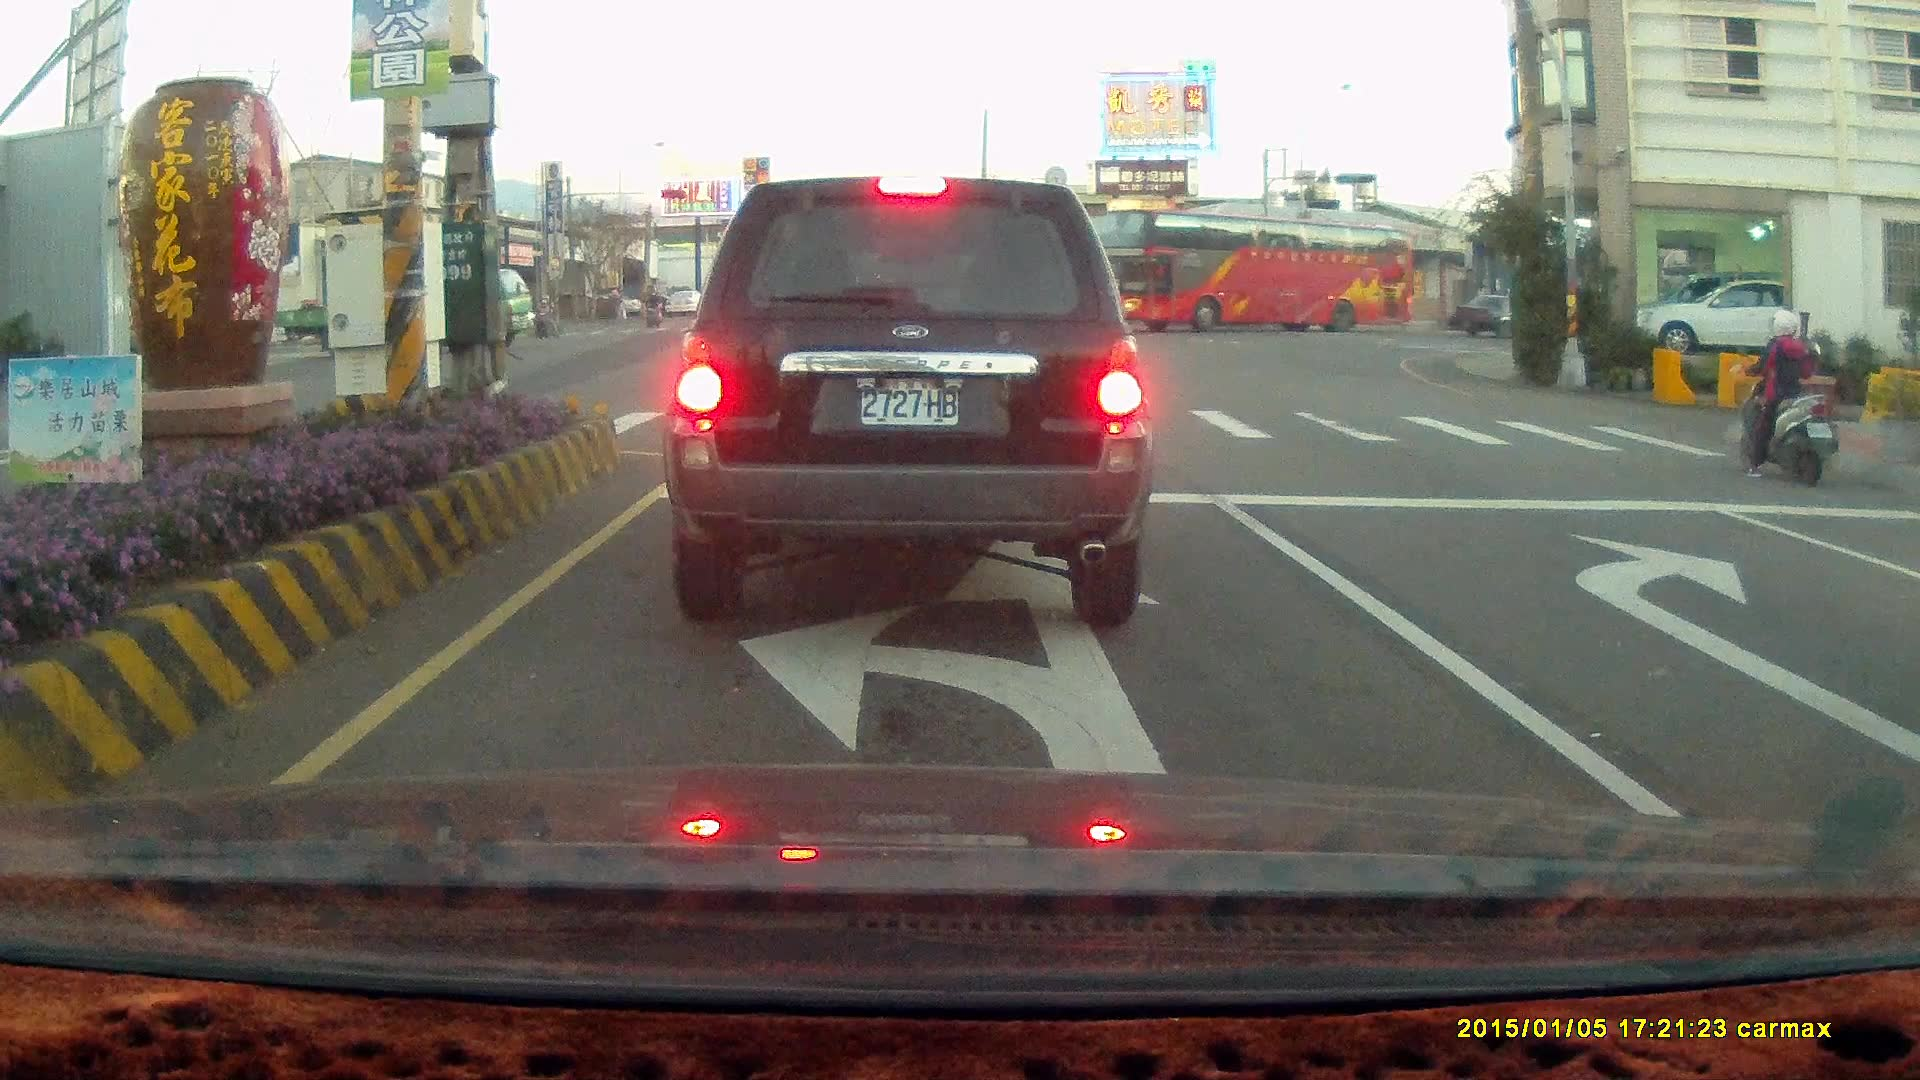rider: (1727, 305, 1840, 485), (532, 289, 559, 337), (642, 289, 663, 326)
vehicle: (660, 173, 1154, 630), (1093, 216, 1420, 335), (1624, 275, 1833, 354), (1642, 275, 1784, 356), (1896, 493, 1920, 836), (1883, 528, 1920, 690), (1450, 290, 1563, 342)
